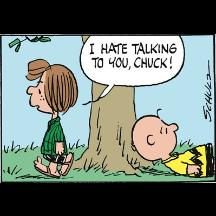charlie: (130, 107, 216, 177)
